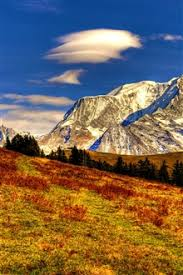field: (7, 155, 183, 272)
mountain: (52, 78, 183, 164)
sky: (4, 5, 182, 111)
